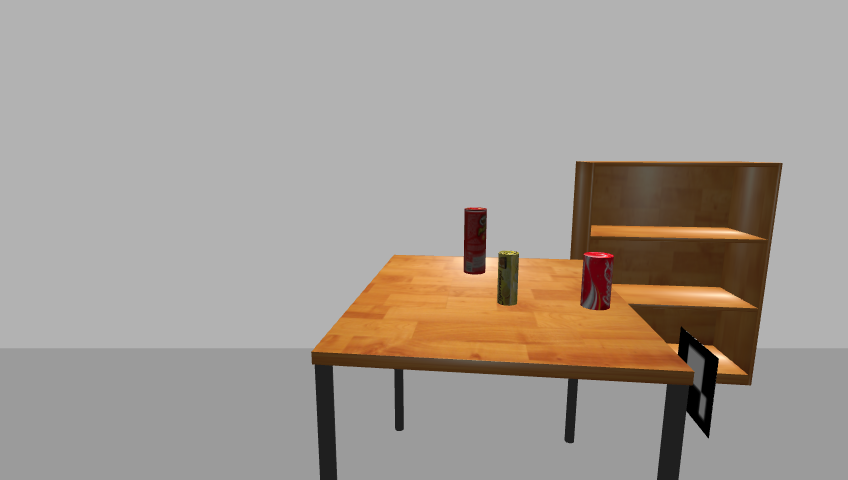aruco marker: (675, 327, 722, 439)
biscuits pack: (497, 251, 520, 307)
bookshelf: (567, 158, 790, 392)
coke can: (580, 252, 615, 311)
dinner table: (306, 253, 699, 480)
pringles can: (461, 206, 488, 276)
